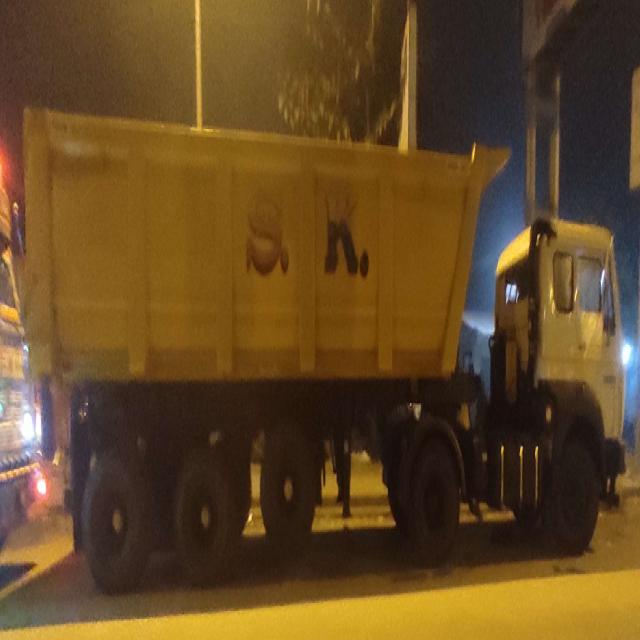truck: (20, 100, 629, 601)
